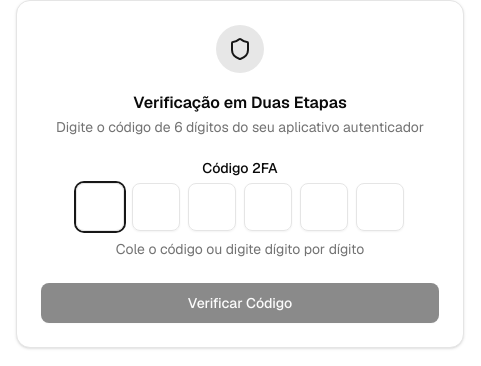
Test: TwoFactorForm › should show loading state during verification
Type all 6 digits to trigger submission
Type "1" into the field with test id "totp-input-0".
click(100, 207); type("1")  # box [76,183,124,231]
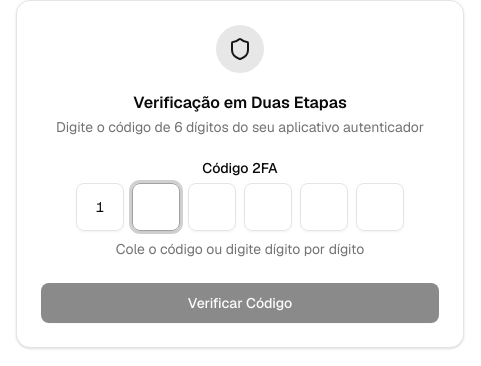
Type "2" into the field with test id "totp-input-1".
click(156, 207); type("2")  # box [132,183,180,231]
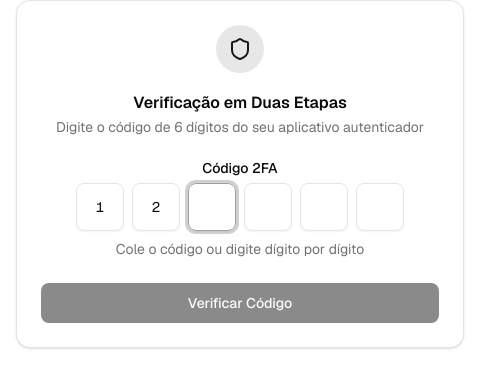
Type "3" into the field with test id "totp-input-2".
click(212, 207); type("3")  # box [188,183,236,231]
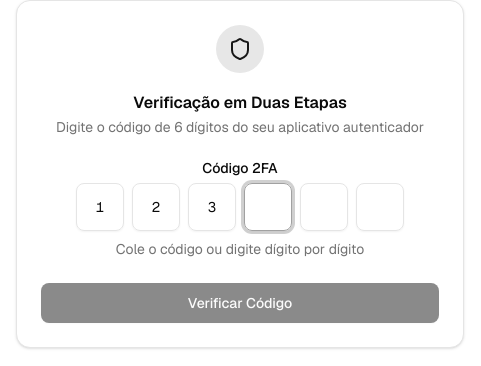
Type "4" into the field with test id "totp-input-3".
click(268, 207); type("4")  # box [244,183,292,231]
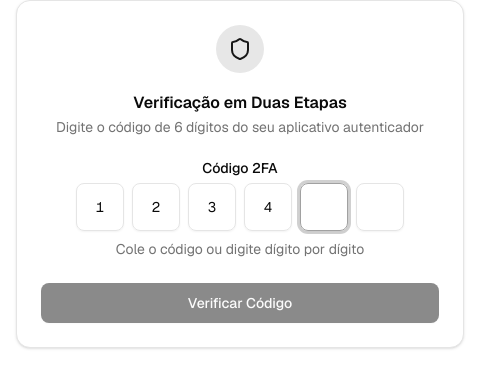
Type "5" into the field with test id "totp-input-4".
click(324, 207); type("5")  # box [300,183,348,231]
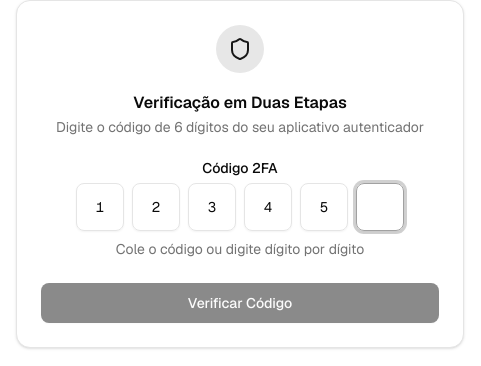
Type "6" into the field with test id "totp-input-5".
click(380, 207); type("6")  # box [356,183,404,231]
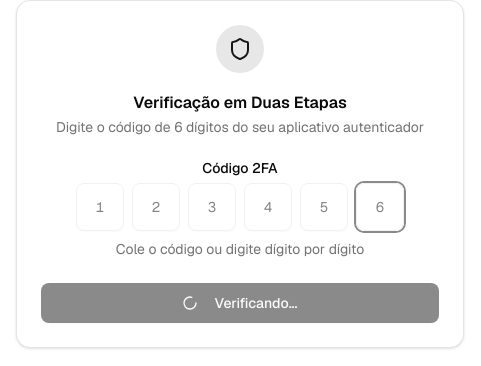
expect the button "Verificando..." is shown: met, box [41,283,439,323]
expect the field with test id "totp-input-1" is disabled: met, box [132,183,180,231]
expect the field with test id "totp-input-2" is disabled: met, box [188,183,236,231]
